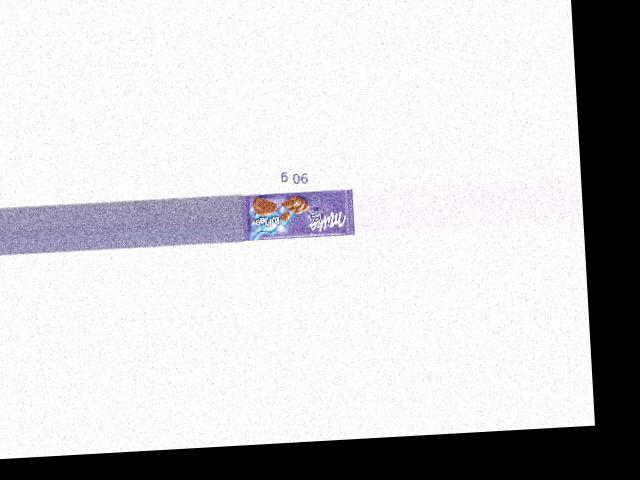chocolate: (240, 189, 352, 241)
